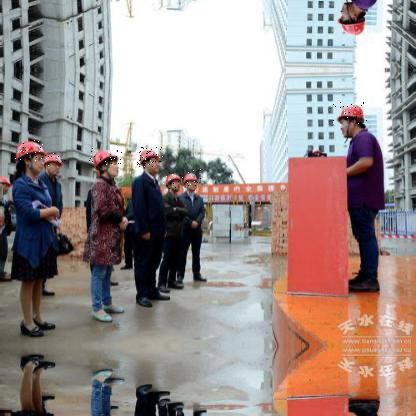safetyhelmet: (10, 138, 48, 162), (334, 102, 372, 125), (89, 148, 123, 169), (135, 146, 164, 168), (162, 172, 186, 190), (41, 152, 66, 168), (181, 170, 202, 187)
